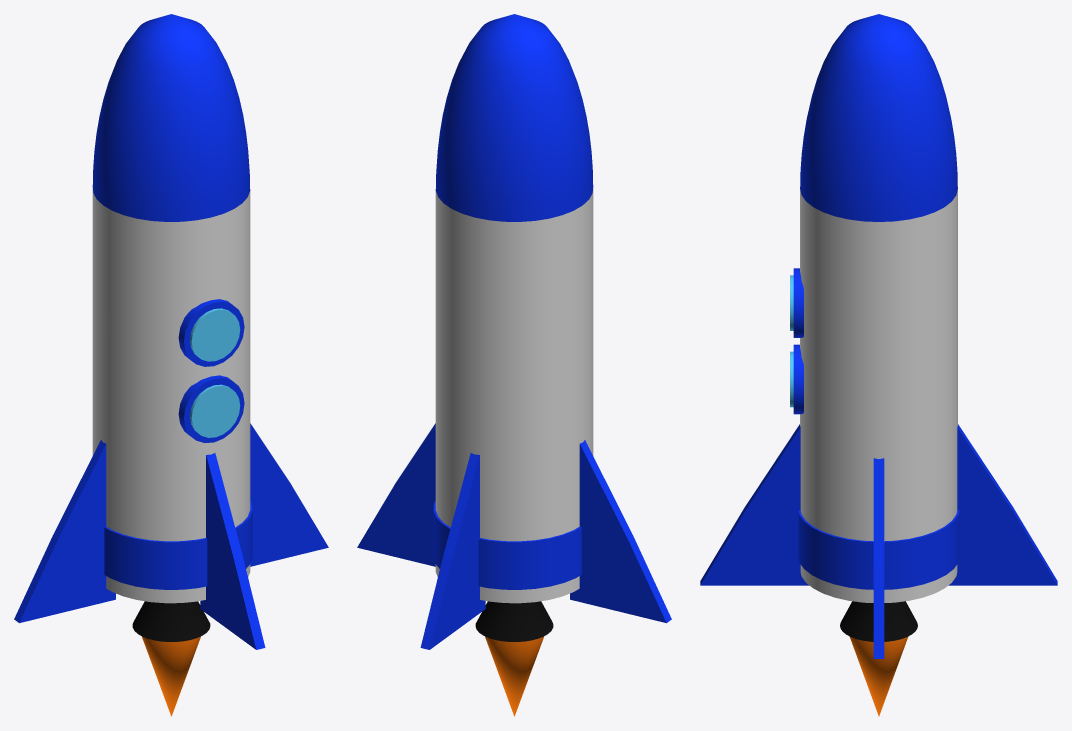
Rendered from Rocket_05_SkyBlue.obj.
3 views of the same model, side by side, from view 1: azimuth 30°, elevation 25°; view 2: azimuth 150°, elevation 25°; view 3: azimuth 270°, elevation 25° (orthographic).
Visible parts, largest first — view 1: R05_Body, R05_Nose, R05_Fin_2, R05_Fin_3, R05_Band_1, R05_Fin_4, R05_Nozzle_1, R05_Flame_1, R05_Window_2, R05_Window_1, R05_WindowFrame_1, R05_WindowFrame_2; view 2: R05_Body, R05_Nose, R05_Fin_2, R05_Fin_1, R05_Band_1, R05_Fin_4, R05_Nozzle_1, R05_Flame_1; view 3: R05_Body, R05_Nose, R05_Fin_1, R05_Fin_3, R05_Band_1, R05_Fin_4, R05_Nozzle_1, R05_Flame_1, R05_WindowFrame_2, R05_WindowFrame_1.
Part boxes in pixels (x1,y1,x2,y2): R05_Body: (92,187,250,603); R05_Nose: (92,14,250,221); R05_Fin_2: (14,440,115,623); R05_Fin_3: (200,453,265,649); R05_Band_1: (104,501,252,589); R05_Fin_4: (250,423,328,566); R05_Nozzle_1: (132,601,210,641); R05_Flame_1: (142,636,200,716); R05_Window_2: (190,384,240,437); R05_Window_1: (190,308,240,361); R05_WindowFrame_1: (178,299,244,366); R05_WindowFrame_2: (178,375,244,442); R05_Body: (435,187,593,603); R05_Nose: (435,14,593,221); R05_Fin_2: (570,440,671,623); R05_Fin_1: (420,453,485,649); R05_Band_1: (433,501,581,589); R05_Fin_4: (357,423,435,566); R05_Nozzle_1: (475,601,553,641); R05_Flame_1: (485,636,543,716); R05_Body: (800,189,957,602); R05_Nose: (800,14,957,221); R05_Fin_1: (948,424,1057,585); R05_Fin_3: (700,424,809,585); R05_Band_1: (798,510,959,589); R05_Fin_4: (873,458,884,658); R05_Nozzle_1: (840,601,917,641); R05_Flame_1: (850,637,907,716); R05_WindowFrame_2: (793,344,803,414); R05_WindowFrame_1: (793,268,803,337).
Bounding box in the file's own units: 4.08 × 8.85 × 4.08.
